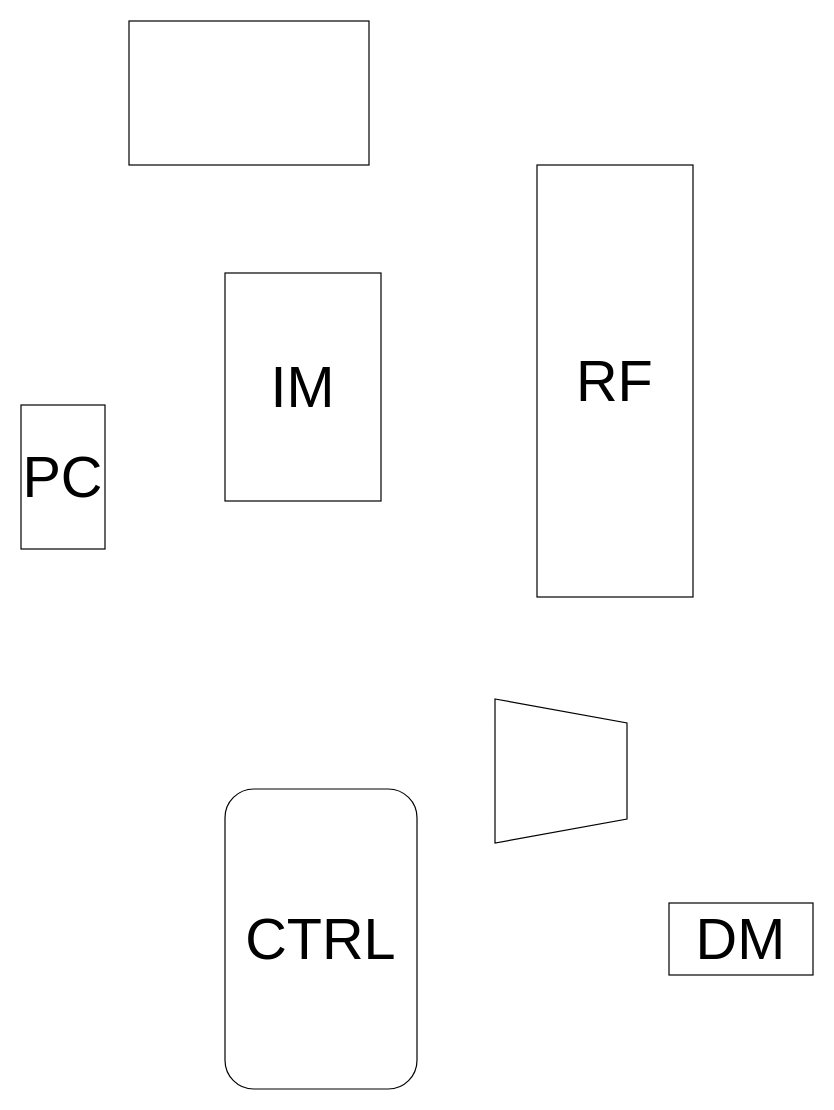
This 834x1110 diagram has some shape labels left out. The centre of each missing label's shape, as x and y in pixels:
"ALU" goes at (x=560, y=770).
"NPC" goes at (x=248, y=92).
